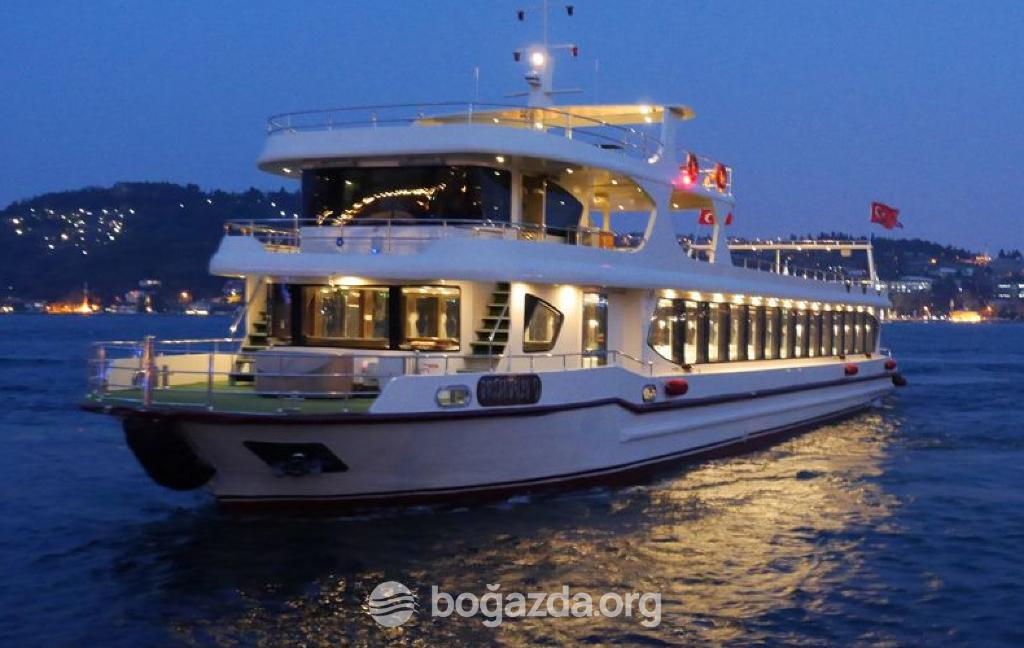PassengerShip: (65, 5, 923, 501)
